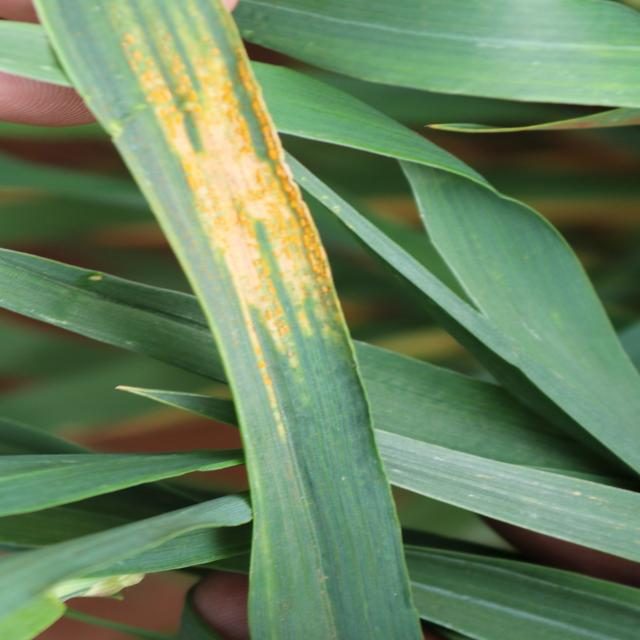Stripe Rust: (123, 35, 339, 338)
